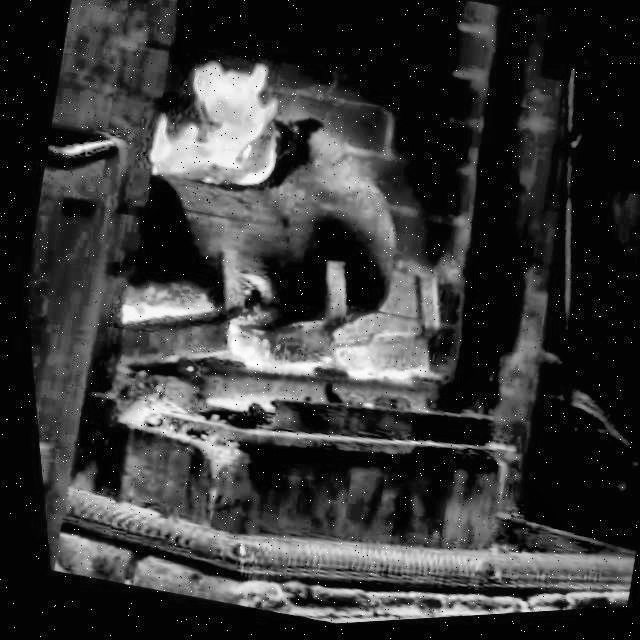Fire: (124, 35, 324, 216)
